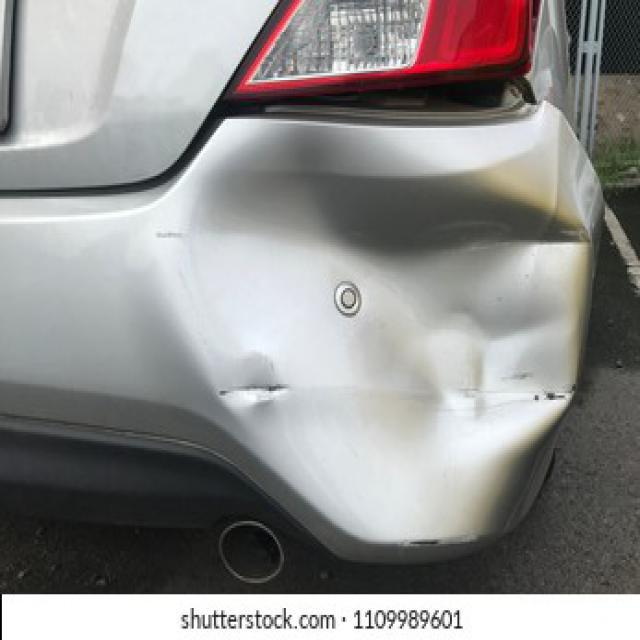rear-bumper-dent: (157, 121, 598, 550)
